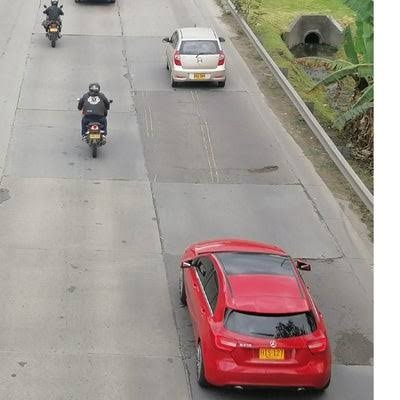car: (165, 24, 359, 367), (174, 167, 345, 382), (174, 235, 332, 395), (165, 33, 228, 89), (79, 96, 111, 148), (78, 86, 112, 132), (80, 112, 110, 153), (41, 3, 63, 47)
